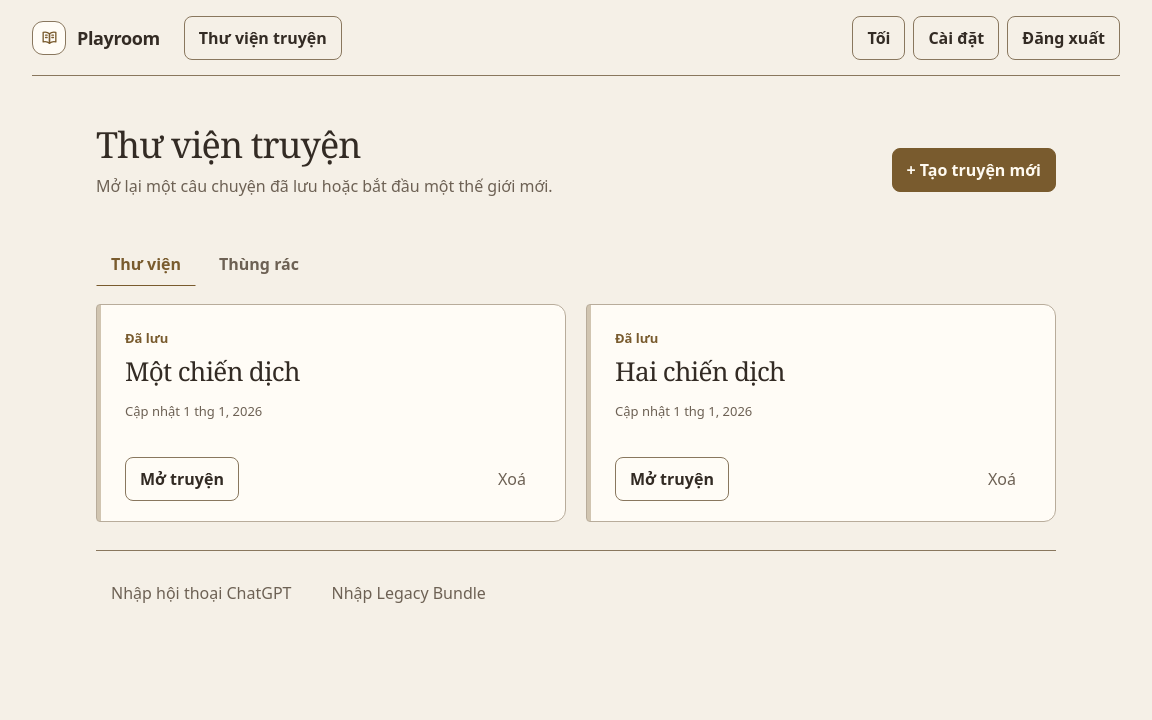
Scenario: CampaignHome › clears old story and jobs while switching campaigns
Click the button "Mở truyện" below "Một chiến dịch": (182, 479) [125,457,239,501]
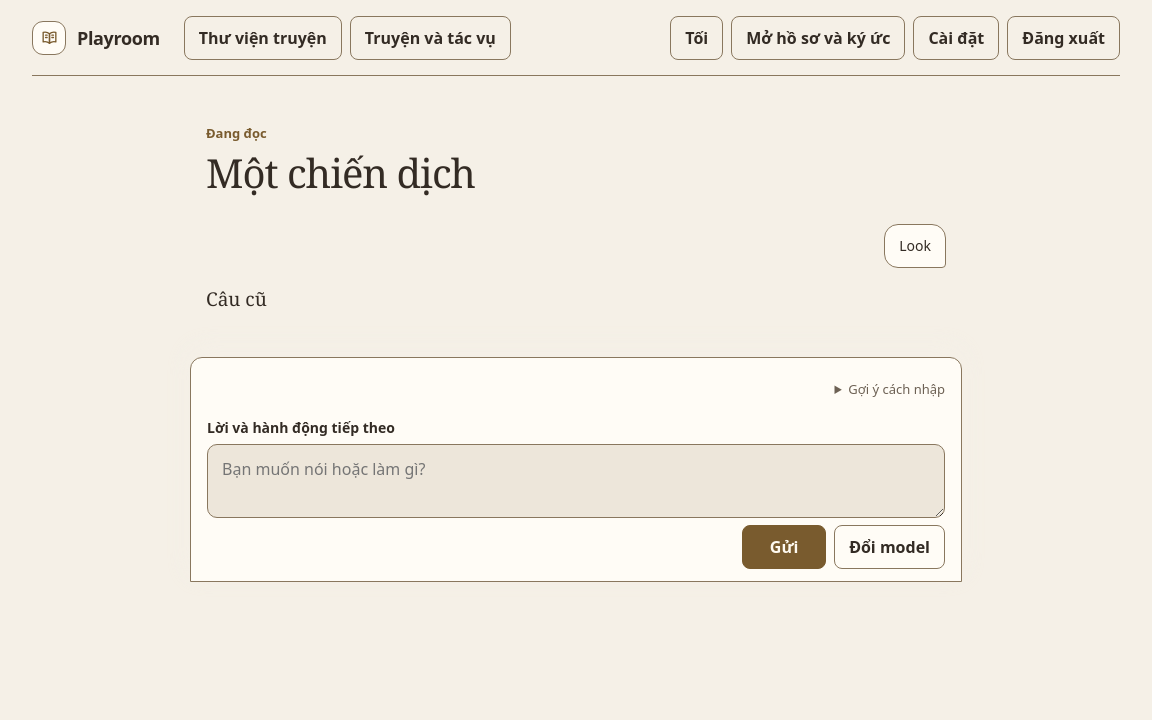
Expected: the text "Câu cũ" is shown, [206,286,267,312]
Click the button "Truyện và tác vụ": (430, 38) [350,16,511,60]
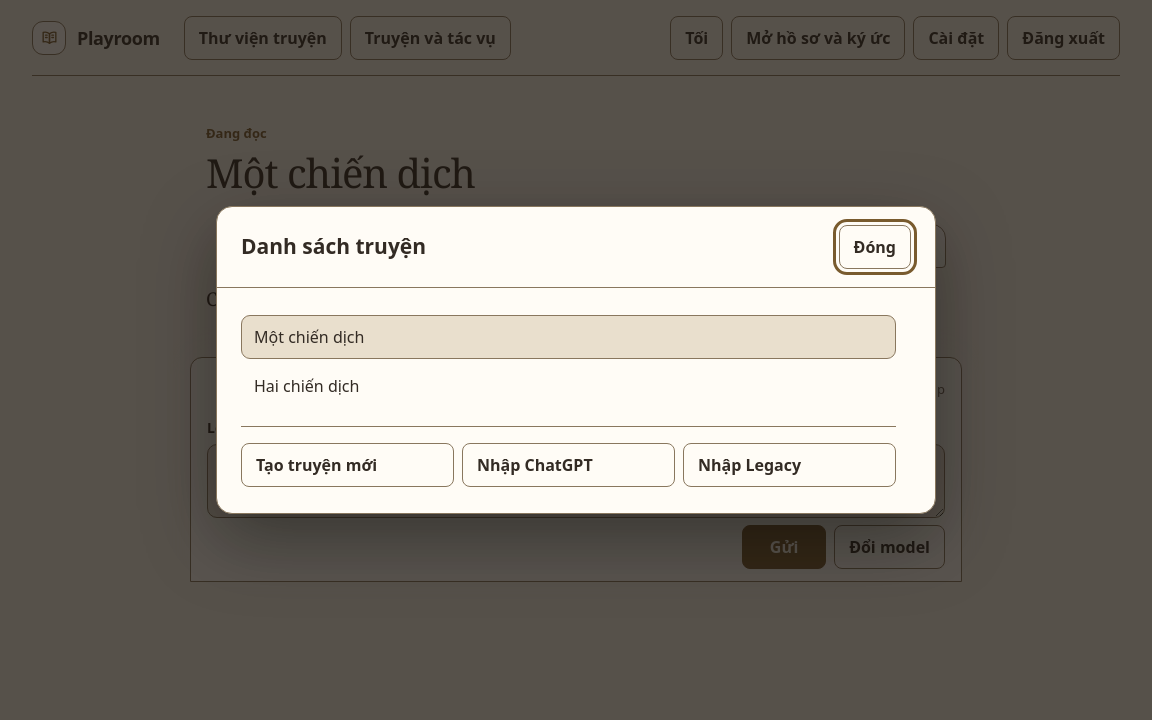
Click the button "Hai chiến dịch": (307, 386) [241,364,896,408]
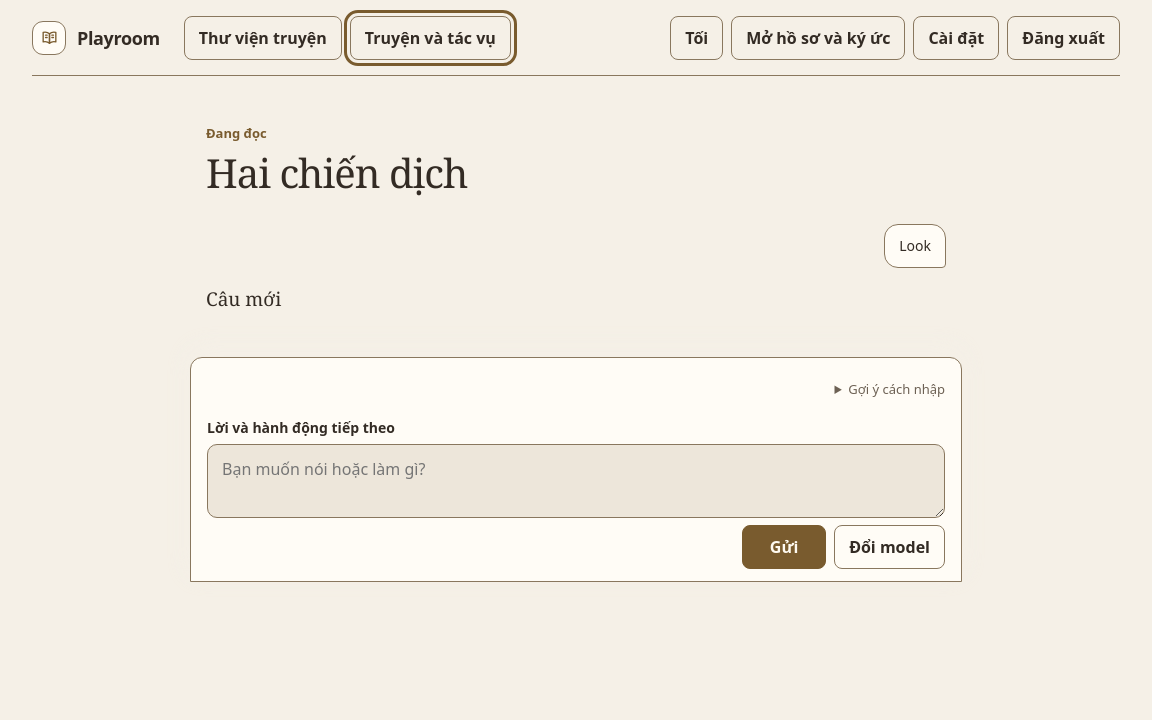
Expected: the text "Câu cũ" is gone
Expected: the text "Câu mới" is shown, [206,286,281,312]
